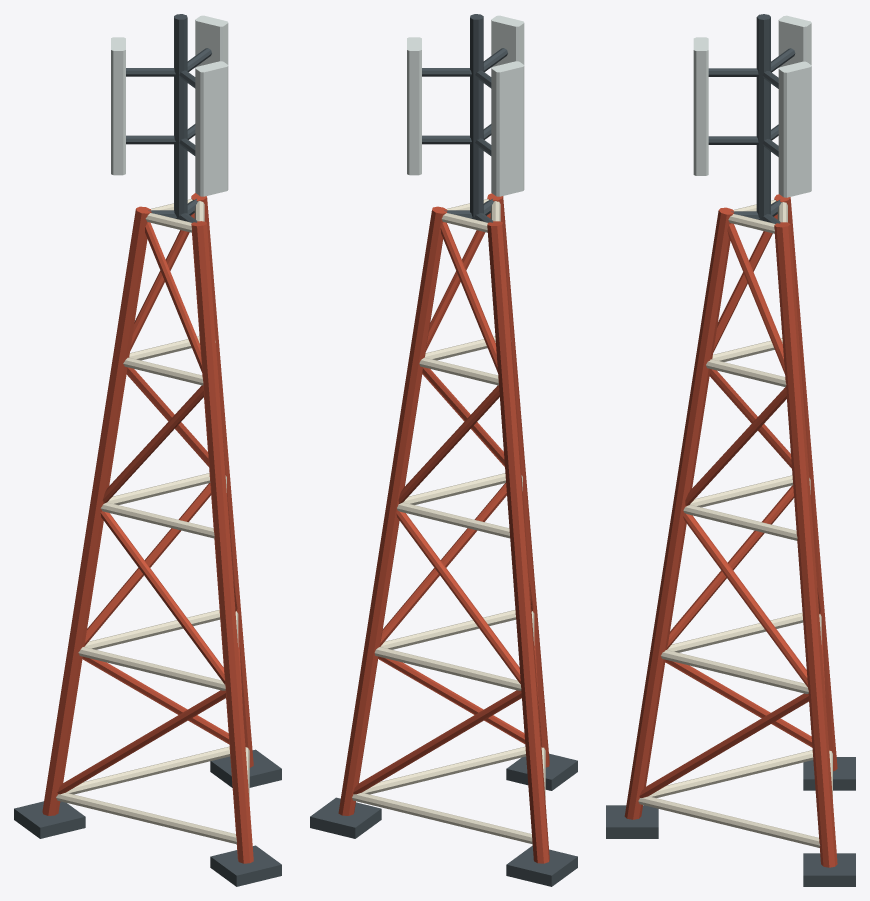
The picture shows the model from 3 angles, left to right: view 1: azimuth 30°, elevation 25°; view 2: azimuth 150°, elevation 25°; view 3: azimuth 270°, elevation 25°; orthographic projection.
Parts seen in each view (by area): view 1: MainChord_1, MainChord_3, AntennaPanel_1, MainChord_2, ShortAntennaMast, AntennaPanel_3, Diagonal_2_Face3, Diagonal_1_Face3, Horizontal_1_Face3, GroundPad_1, GroundPad_3, Diagonal_2_Face2 (+14 smaller); view 2: MainChord_3, MainChord_2, AntennaPanel_3, MainChord_1, ShortAntennaMast, AntennaPanel_2, Diagonal_2_Face2, Diagonal_1_Face2, Horizontal_1_Face2, GroundPad_2, GroundPad_3, Diagonal_2_Face1 (+14 smaller); view 3: MainChord_2, MainChord_1, AntennaPanel_2, MainChord_3, ShortAntennaMast, AntennaPanel_1, Diagonal_2_Face1, Diagonal_1_Face1, Horizontal_1_Face1, Diagonal_2_Face3, Horizontal_1_Face3, GroundPad_2 (+14 smaller).
Part boxes in pixels (x1,y1,x2,y2): MainChord_1: (191, 221, 253, 863); MainChord_3: (42, 206, 151, 815); AntennaPanel_1: (195, 61, 228, 196); MainChord_2: (191, 193, 253, 767); ShortAntennaMast: (174, 14, 187, 219); AntennaPanel_3: (111, 37, 125, 175); Diagonal_2_Face3: (100, 511, 225, 684); Diagonal_1_Face3: (57, 690, 225, 794); Horizontal_1_Face3: (56, 792, 236, 844); GroundPad_1: (210, 845, 281, 886); GroundPad_3: (14, 801, 85, 838); Diagonal_2_Face2: (84, 483, 210, 646); MainChord_3: (487, 221, 549, 863); MainChord_2: (338, 206, 447, 815); AntennaPanel_3: (491, 61, 524, 196); MainChord_1: (487, 193, 549, 767); ShortAntennaMast: (470, 14, 483, 219); AntennaPanel_2: (407, 37, 421, 175); Diagonal_2_Face2: (396, 510, 520, 684); Diagonal_1_Face2: (353, 690, 521, 794); Horizontal_1_Face2: (352, 792, 532, 844); GroundPad_2: (310, 797, 381, 838); GroundPad_3: (506, 845, 577, 886); Diagonal_2_Face1: (380, 483, 506, 646); MainChord_2: (774, 222, 837, 867); MainChord_1: (624, 207, 733, 819); AntennaPanel_2: (778, 61, 811, 197); MainChord_3: (774, 194, 837, 771); ShortAntennaMast: (756, 14, 770, 220); AntennaPanel_1: (693, 37, 708, 175); Diagonal_2_Face1: (683, 513, 808, 686); Diagonal_1_Face1: (639, 693, 808, 797); Horizontal_1_Face1: (638, 796, 820, 847); Diagonal_2_Face3: (667, 485, 793, 648); Horizontal_1_Face3: (649, 750, 813, 797); GroundPad_2: (803, 853, 855, 886).
Bounding box in the file's own units: 2.24 × 7.14 × 2.
